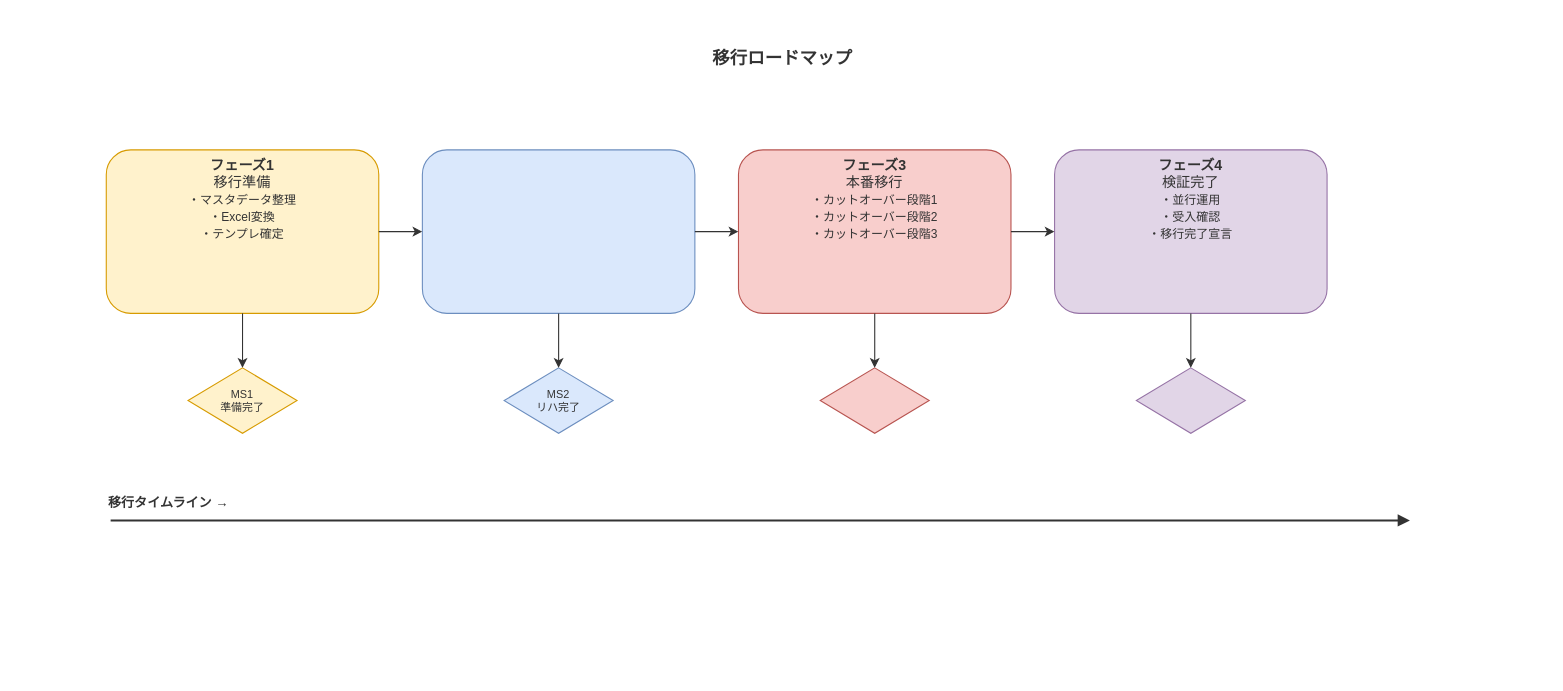
Image size: 1563x691. Some labels were removed from this diagram. The shapes that lost their labels are listed below. From the top down, each one's box as (x1, y1, x2, y2) in pixels, then its label:
(421, 149, 695, 313): フェーズ2 リハーサル ・第1回リハーサル ・第2回リハーサル ・品質確認
(819, 367, 929, 433): MS3 移行完了
(1135, 367, 1245, 433): MS4 受入完了
